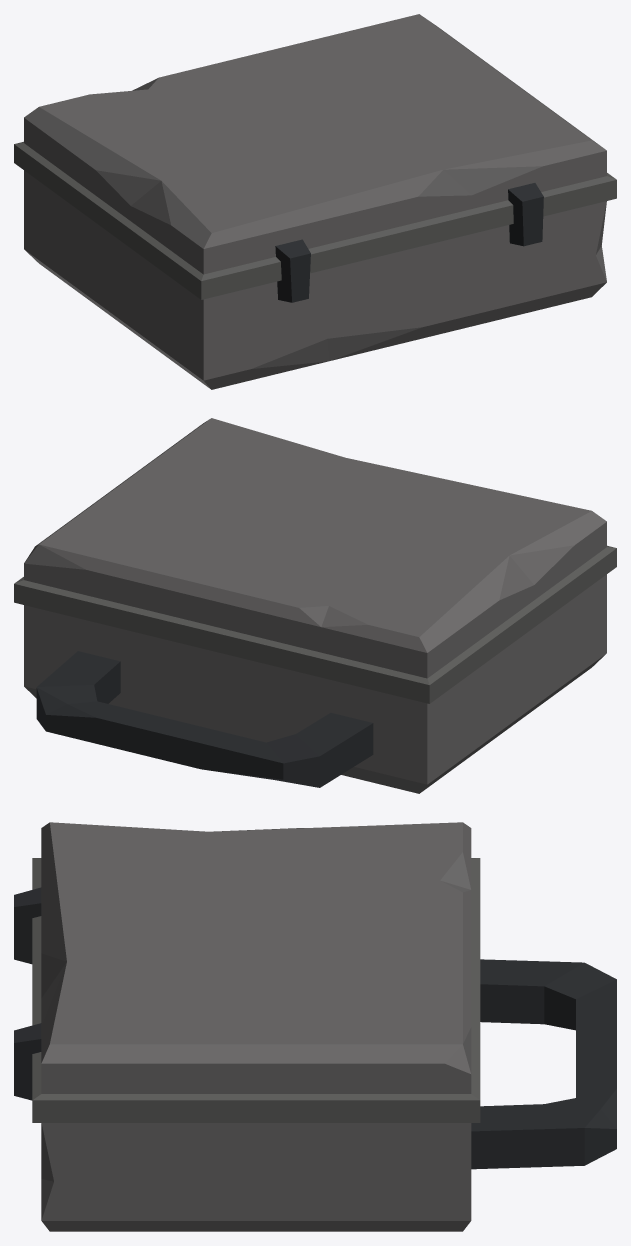
File: SM_Prop_MedicalBox_01.fbx
The picture shows the model from 3 angles, top to bottom: view 1: azimuth 30°, elevation 25°; view 2: azimuth 150°, elevation 25°; view 3: azimuth 270°, elevation 25°; orthographic projection. The views are drawn at different scales.
Parts seen in each view (by area): view 1: SM_Prop_MedicalBox_01; view 2: SM_Prop_MedicalBox_01; view 3: SM_Prop_MedicalBox_01.
Boxes of the visible parts, left/top/right/bottom form: SM_Prop_MedicalBox_01: left=14, top=14, right=616, bottom=389; SM_Prop_MedicalBox_01: left=14, top=418, right=616, bottom=793; SM_Prop_MedicalBox_01: left=14, top=822, right=616, bottom=1231.
Bounding box in the file's own units: 48.94 × 17.63 × 51.41.
